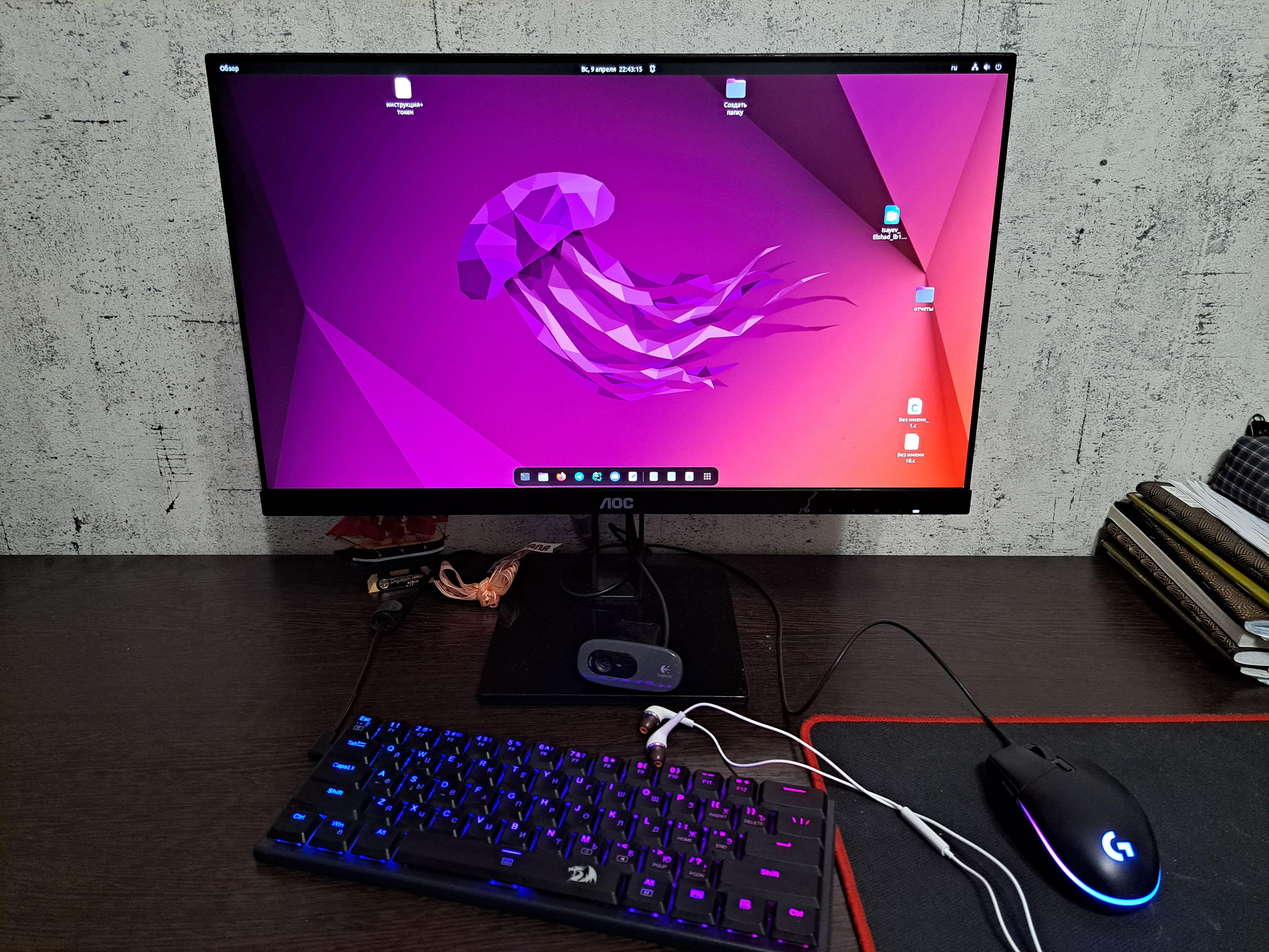monitor: (204, 50, 1020, 516)
